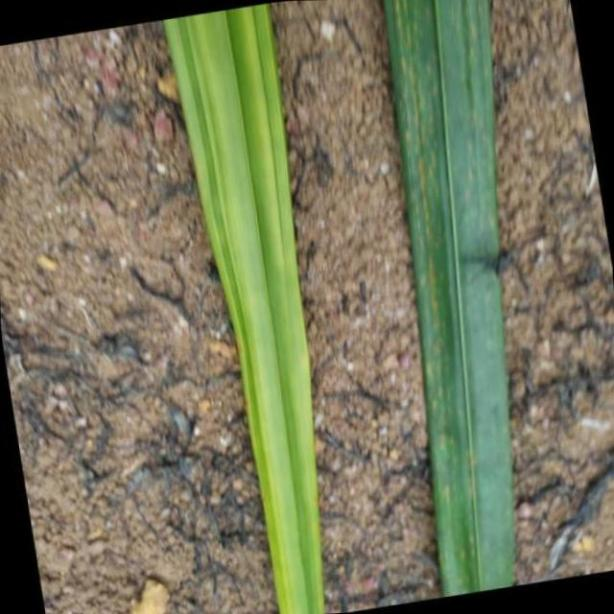nitrogen: (161, 0, 328, 614), (376, 0, 518, 598)
